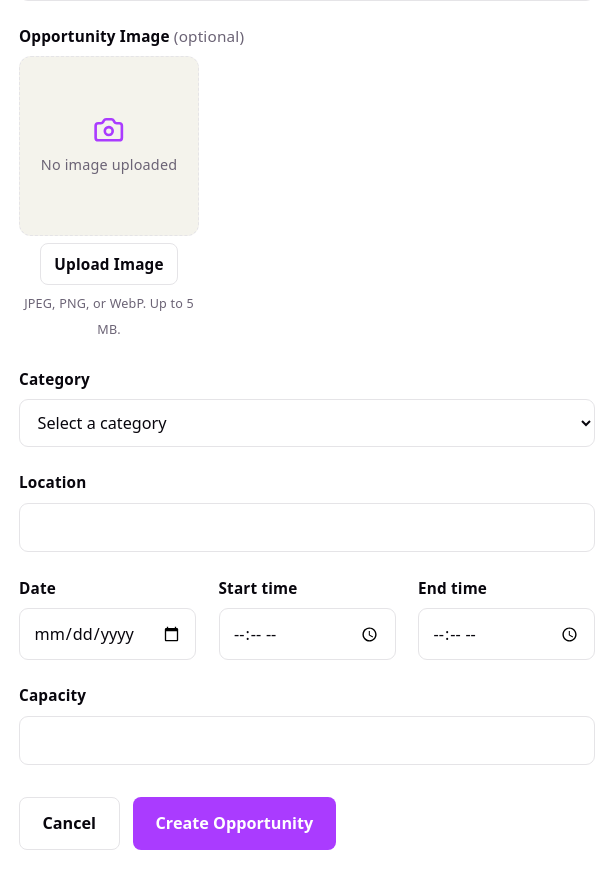
CreateOpportunityPage › hides the Custom Category field until "Other..." is selected
The width and height of the screenshot is (615, 873).
(page scrolled)
expect the field labelled "Custom Category" is not shown: met
Select "Other..." in the dropdown labelled "Category" at (307, 423), box [19,399,595,447]
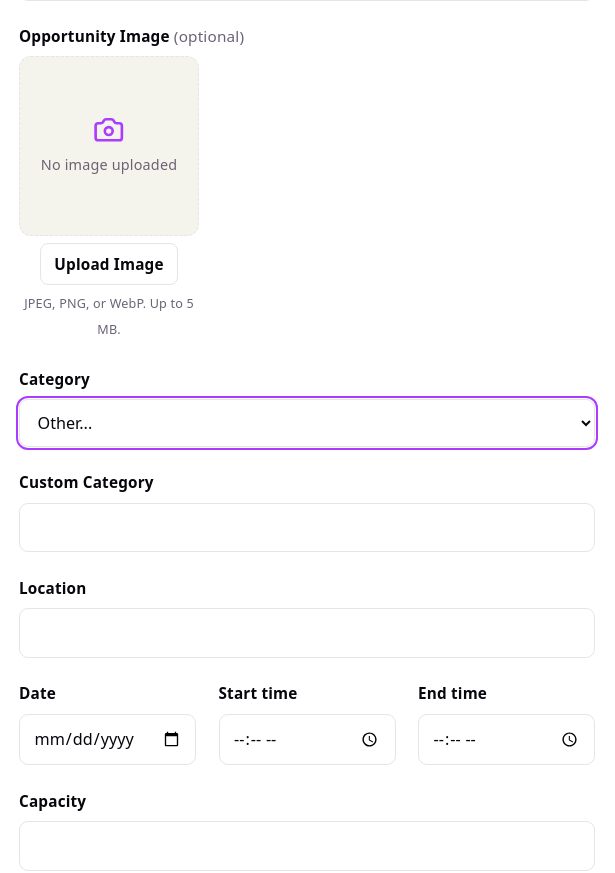
expect the field labelled "Custom Category" is shown: met, box [19,503,595,552]
Select "Environment" in the dropdown labelled "Category" at (307, 423), box [19,399,595,447]
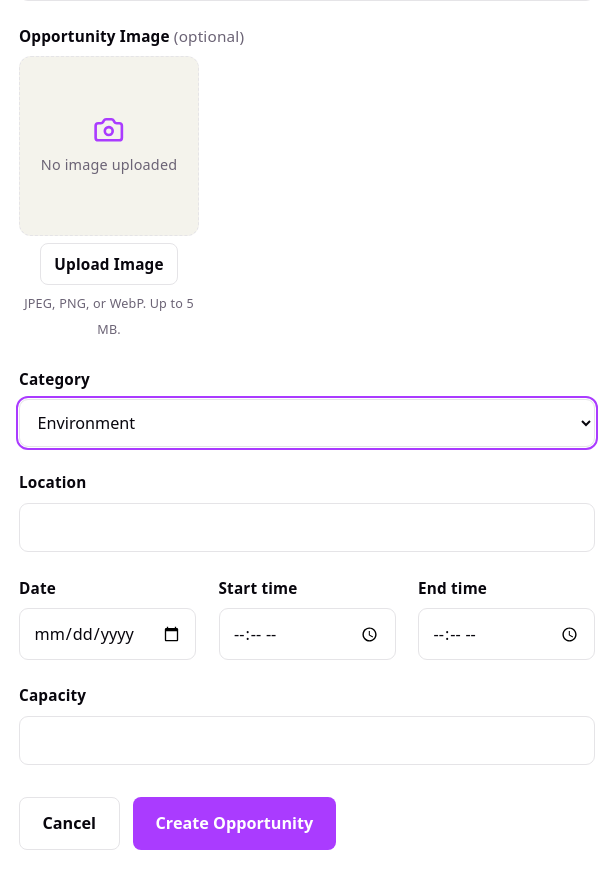
expect the label labelled "Custom Category" is gone: met
